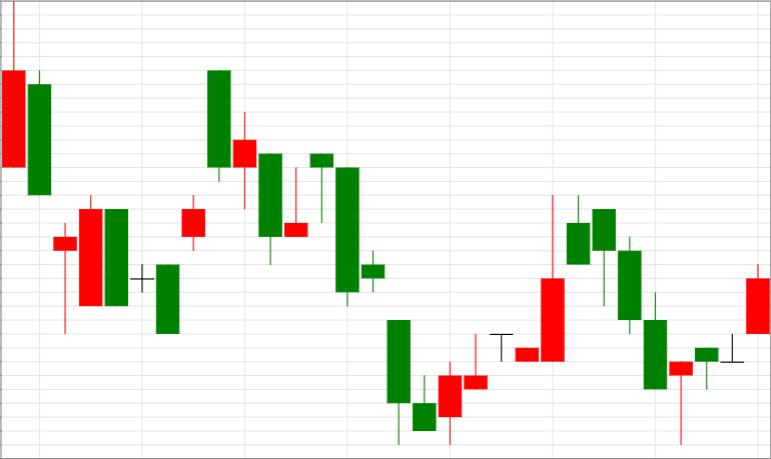three_black_crows_fall: (439, 195, 667, 445)
